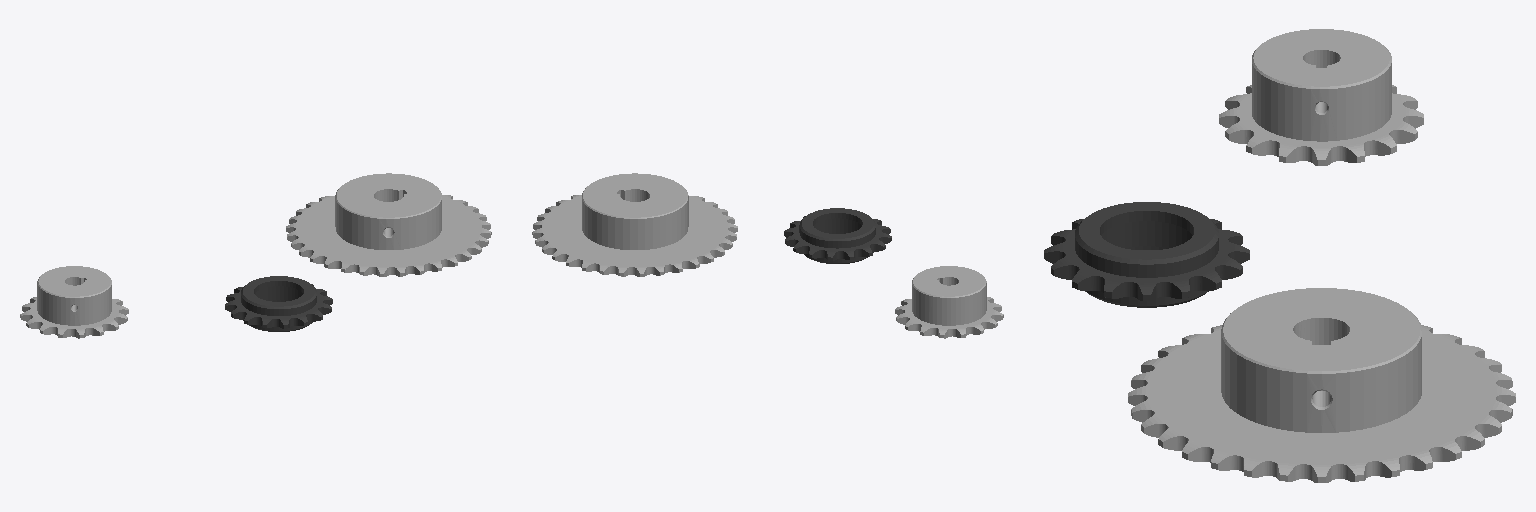
robot.urdf — board:
<?xml version="1.0"?>
<!-- Generated by scripts/debug/gen_bike_chain_board_urdf.py from bike_chain_task_board.sdf; do not edit. -->
<robot name="board">
  <link name="board">
    <visual name="board">
      <origin xyz="0 0 0" rpy="0 0 0"/>
      <geometry><mesh filename="bike_chain_task_board_no_sprockets.obj" scale="0.001 0.001 0.001"/></geometry>
    </visual>
    <collision name="board_collision">
      <origin xyz="0.192 0.192 -0.005" rpy="0 0 0"/>
      <geometry><box size="0.384 0.384 0.01"/></geometry>
    </collision>
  </link>
  <link name="small_sprocket">
    <inertial>
      <origin xyz="0 0 0" rpy="0 0 0"/>
      <mass value="0.3"/>
      <inertia ixx="3.06677e-05" iyy="3.0667375e-05" izz="6.0454911e-05" ixy="5.7518697e-14" ixz="1.6724428e-11" iyz="-1.9003215e-11"/>
    </inertial>
    <visual name="small_sprocket">
      <origin xyz="0 0 0.02" rpy="0 0 0"/>
      <geometry><mesh filename="small_sprocket.obj"/></geometry>
      <material name="small_sprocket"><color rgba="0.7 0.7 0.7 1"/></material>
    </visual>
    <collision name="small_sprocket_rim">
      <origin xyz="0 0 0.02215" rpy="0 0 0"/>
      <geometry><cylinder radius="0.02224" length="0.0043"/></geometry>
    </collision>
    <collision name="small_sprocket_tooth_0">
      <origin xyz="0.02224 0 0.02215" rpy="0 1.57079 0"/>
      <geometry><mesh filename="sprocket_tooth.obj"/></geometry>
    </collision>
    <collision name="small_sprocket_tooth_1">
      <origin xyz="0.020547 0.008511 0.02215" rpy="0 1.57079 0.392699"/>
      <geometry><mesh filename="sprocket_tooth.obj"/></geometry>
    </collision>
    <collision name="small_sprocket_tooth_2">
      <origin xyz="0.015726 0.015726 0.02215" rpy="0 1.57079 0.785398"/>
      <geometry><mesh filename="sprocket_tooth.obj"/></geometry>
    </collision>
    <collision name="small_sprocket_tooth_3">
      <origin xyz="0.008511 0.020547 0.02215" rpy="0 1.57079 1.178097"/>
      <geometry><mesh filename="sprocket_tooth.obj"/></geometry>
    </collision>
    <collision name="small_sprocket_tooth_4">
      <origin xyz="0 0.02224 0.02215" rpy="0 1.57079 1.570796"/>
      <geometry><mesh filename="sprocket_tooth.obj"/></geometry>
    </collision>
    <collision name="small_sprocket_tooth_5">
      <origin xyz="-0.008511 0.020547 0.02215" rpy="0 1.57079 1.963495"/>
      <geometry><mesh filename="sprocket_tooth.obj"/></geometry>
    </collision>
    <collision name="small_sprocket_tooth_6">
      <origin xyz="-0.015726 0.015726 0.02215" rpy="0 1.57079 2.356194"/>
      <geometry><mesh filename="sprocket_tooth.obj"/></geometry>
    </collision>
    <collision name="small_sprocket_tooth_7">
      <origin xyz="-0.020547 0.008511 0.02215" rpy="0 1.57079 2.748894"/>
      <geometry><mesh filename="sprocket_tooth.obj"/></geometry>
    </collision>
    <collision name="small_sprocket_tooth_8">
      <origin xyz="-0.02224 0 0.02215" rpy="0 1.57079 3.141593"/>
      <geometry><mesh filename="sprocket_tooth.obj"/></geometry>
    </collision>
    <collision name="small_sprocket_tooth_9">
      <origin xyz="-0.020547 -0.008511 0.02215" rpy="0 1.57079 3.534292"/>
      <geometry><mesh filename="sprocket_tooth.obj"/></geometry>
    </collision>
    <collision name="small_sprocket_tooth_10">
      <origin xyz="-0.015726 -0.015726 0.02215" rpy="0 1.57079 3.926991"/>
      <geometry><mesh filename="sprocket_tooth.obj"/></geometry>
    </collision>
    <collision name="small_sprocket_tooth_11">
      <origin xyz="-0.008511 -0.020547 0.02215" rpy="0 1.57079 4.31969"/>
      <geometry><mesh filename="sprocket_tooth.obj"/></geometry>
    </collision>
    <collision name="small_sprocket_tooth_12">
      <origin xyz="0 -0.02224 0.02215" rpy="0 1.57079 4.712389"/>
      <geometry><mesh filename="sprocket_tooth.obj"/></geometry>
    </collision>
    <collision name="small_sprocket_tooth_13">
      <origin xyz="0.008511 -0.020547 0.02215" rpy="0 1.57079 5.105088"/>
      <geometry><mesh filename="sprocket_tooth.obj"/></geometry>
    </collision>
    <collision name="small_sprocket_tooth_14">
      <origin xyz="0.015726 -0.015726 0.02215" rpy="0 1.57079 5.497787"/>
      <geometry><mesh filename="sprocket_tooth.obj"/></geometry>
    </collision>
    <collision name="small_sprocket_tooth_15">
      <origin xyz="0.020547 -0.008511 0.02215" rpy="0 1.57079 5.890486"/>
      <geometry><mesh filename="sprocket_tooth.obj"/></geometry>
    </collision>
    <collision name="small_sprocket_hub">
      <origin xyz="0 0 0.03215" rpy="0 0 0"/>
      <geometry><cylinder radius="0.0185" length="0.0157"/></geometry>
    </collision>
    <collision name="screw_head">
      <origin xyz="0 0 0.043" rpy="0 0 0"/>
      <geometry><cylinder radius="0.005" length="0.006"/></geometry>
    </collision>
  </link>
  <link name="large_sprocket">
    <inertial>
      <origin xyz="0 0 0" rpy="0 0 0"/>
      <mass value="0.5"/>
      <inertia ixx="3.06677e-05" iyy="3.0667375e-05" izz="6.0454911e-05" ixy="5.7518697e-14" ixz="1.6724428e-11" iyz="-1.9003215e-11"/>
    </inertial>
    <visual name="large_sprocket">
      <origin xyz="0 0 0.023" rpy="0 0 0"/>
      <geometry><mesh filename="large_sprocket.obj"/></geometry>
      <material name="large_sprocket"><color rgba="0.7 0.7 0.7 1"/></material>
    </visual>
    <collision name="large_sprocket_rim">
      <origin xyz="0 0 0.02515" rpy="0 0 0"/>
      <geometry><cylinder radius="0.046237" length="0.0043"/></geometry>
    </collision>
    <collision name="large_sprocket_hub">
      <origin xyz="0 0 0.03615" rpy="0 0 0"/>
      <geometry><cylinder radius="0.0265" length="0.0177"/></geometry>
    </collision>
    <collision name="screw_head">
      <origin xyz="0 0 0.048" rpy="0 0 0"/>
      <geometry><cylinder radius="0.005" length="0.006"/></geometry>
    </collision>
    <collision name="large_sprocket_tooth_0">
      <origin xyz="0.046237 0 0.02515" rpy="0 1.57079 0"/>
      <geometry><mesh filename="sprocket_tooth.obj"/></geometry>
    </collision>
    <collision name="large_sprocket_tooth_1">
      <origin xyz="0.045349 0.00902 0.02515" rpy="0 1.57079 0.19635"/>
      <geometry><mesh filename="sprocket_tooth.obj"/></geometry>
    </collision>
    <collision name="large_sprocket_tooth_2">
      <origin xyz="0.042717 0.017694 0.02515" rpy="0 1.57079 0.392699"/>
      <geometry><mesh filename="sprocket_tooth.obj"/></geometry>
    </collision>
    <collision name="large_sprocket_tooth_3">
      <origin xyz="0.038445 0.025688 0.02515" rpy="0 1.57079 0.589049"/>
      <geometry><mesh filename="sprocket_tooth.obj"/></geometry>
    </collision>
    <collision name="large_sprocket_tooth_4">
      <origin xyz="0.032694 0.032694 0.02515" rpy="0 1.57079 0.785398"/>
      <geometry><mesh filename="sprocket_tooth.obj"/></geometry>
    </collision>
    <collision name="large_sprocket_tooth_5">
      <origin xyz="0.025688 0.038445 0.02515" rpy="0 1.57079 0.981748"/>
      <geometry><mesh filename="sprocket_tooth.obj"/></geometry>
    </collision>
    <collision name="large_sprocket_tooth_6">
      <origin xyz="0.017694 0.042717 0.02515" rpy="0 1.57079 1.178097"/>
      <geometry><mesh filename="sprocket_tooth.obj"/></geometry>
    </collision>
    <collision name="large_sprocket_tooth_7">
      <origin xyz="0.00902 0.045349 0.02515" rpy="0 1.57079 1.374447"/>
      <geometry><mesh filename="sprocket_tooth.obj"/></geometry>
    </collision>
    <collision name="large_sprocket_tooth_8">
      <origin xyz="0 0.046237 0.02515" rpy="0 1.57079 1.570796"/>
      <geometry><mesh filename="sprocket_tooth.obj"/></geometry>
    </collision>
    <collision name="large_sprocket_tooth_9">
      <origin xyz="-0.00902 0.045349 0.02515" rpy="0 1.57079 1.767146"/>
      <geometry><mesh filename="sprocket_tooth.obj"/></geometry>
    </collision>
    <collision name="large_sprocket_tooth_10">
      <origin xyz="-0.017694 0.042717 0.02515" rpy="0 1.57079 1.963495"/>
      <geometry><mesh filename="sprocket_tooth.obj"/></geometry>
    </collision>
    <collision name="large_sprocket_tooth_11">
      <origin xyz="-0.025688 0.038445 0.02515" rpy="0 1.57079 2.159845"/>
      <geometry><mesh filename="sprocket_tooth.obj"/></geometry>
    </collision>
    <collision name="large_sprocket_tooth_12">
      <origin xyz="-0.032694 0.032694 0.02515" rpy="0 1.57079 2.356194"/>
      <geometry><mesh filename="sprocket_tooth.obj"/></geometry>
    </collision>
    <collision name="large_sprocket_tooth_13">
      <origin xyz="-0.038445 0.025688 0.02515" rpy="0 1.57079 2.552544"/>
      <geometry><mesh filename="sprocket_tooth.obj"/></geometry>
    </collision>
    <collision name="large_sprocket_tooth_14">
      <origin xyz="-0.042717 0.017694 0.02515" rpy="0 1.57079 2.748894"/>
      <geometry><mesh filename="sprocket_tooth.obj"/></geometry>
    </collision>
    <collision name="large_sprocket_tooth_15">
      <origin xyz="-0.045349 0.00902 0.02515" rpy="0 1.57079 2.945243"/>
      <geometry><mesh filename="sprocket_tooth.obj"/></geometry>
    </collision>
    <collision name="large_sprocket_tooth_16">
      <origin xyz="-0.046237 0 0.02515" rpy="0 1.57079 3.141593"/>
      <geometry><mesh filename="sprocket_tooth.obj"/></geometry>
    </collision>
    <collision name="large_sprocket_tooth_17">
      <origin xyz="-0.045349 -0.00902 0.02515" rpy="0 1.57079 3.337942"/>
      <geometry><mesh filename="sprocket_tooth.obj"/></geometry>
    </collision>
    <collision name="large_sprocket_tooth_18">
      <origin xyz="-0.042717 -0.017694 0.02515" rpy="0 1.57079 3.534292"/>
      <geometry><mesh filename="sprocket_tooth.obj"/></geometry>
    </collision>
    <collision name="large_sprocket_tooth_19">
      <origin xyz="-0.038445 -0.025688 0.02515" rpy="0 1.57079 3.730641"/>
      <geometry><mesh filename="sprocket_tooth.obj"/></geometry>
    </collision>
    <collision name="large_sprocket_tooth_20">
      <origin xyz="-0.032694 -0.032694 0.02515" rpy="0 1.57079 3.926991"/>
      <geometry><mesh filename="sprocket_tooth.obj"/></geometry>
    </collision>
    <collision name="large_sprocket_tooth_21">
      <origin xyz="-0.025688 -0.038445 0.02515" rpy="0 1.57079 4.12334"/>
      <geometry><mesh filename="sprocket_tooth.obj"/></geometry>
    </collision>
    <collision name="large_sprocket_tooth_22">
      <origin xyz="-0.017694 -0.042717 0.02515" rpy="0 1.57079 4.31969"/>
      <geometry><mesh filename="sprocket_tooth.obj"/></geometry>
    </collision>
    <collision name="large_sprocket_tooth_23">
      <origin xyz="-0.00902 -0.045349 0.02515" rpy="0 1.57079 4.516039"/>
      <geometry><mesh filename="sprocket_tooth.obj"/></geometry>
    </collision>
    <collision name="large_sprocket_tooth_24">
      <origin xyz="0 -0.046237 0.02515" rpy="0 1.57079 4.712389"/>
      <geometry><mesh filename="sprocket_tooth.obj"/></geometry>
    </collision>
    <collision name="large_sprocket_tooth_25">
      <origin xyz="0.00902 -0.045349 0.02515" rpy="0 1.57079 4.908739"/>
      <geometry><mesh filename="sprocket_tooth.obj"/></geometry>
    </collision>
    <collision name="large_sprocket_tooth_26">
      <origin xyz="0.017694 -0.042717 0.02515" rpy="0 1.57079 5.105088"/>
      <geometry><mesh filename="sprocket_tooth.obj"/></geometry>
    </collision>
    <collision name="large_sprocket_tooth_27">
      <origin xyz="0.025688 -0.038445 0.02515" rpy="0 1.57079 5.301438"/>
      <geometry><mesh filename="sprocket_tooth.obj"/></geometry>
    </collision>
    <collision name="large_sprocket_tooth_28">
      <origin xyz="0.032694 -0.032694 0.02515" rpy="0 1.57079 5.497787"/>
      <geometry><mesh filename="sprocket_tooth.obj"/></geometry>
    </collision>
    <collision name="large_sprocket_tooth_29">
      <origin xyz="0.038445 -0.025688 0.02515" rpy="0 1.57079 5.694137"/>
      <geometry><mesh filename="sprocket_tooth.obj"/></geometry>
    </collision>
    <collision name="large_sprocket_tooth_30">
      <origin xyz="0.042717 -0.017694 0.02515" rpy="0 1.57079 5.890486"/>
      <geometry><mesh filename="sprocket_tooth.obj"/></geometry>
    </collision>
    <collision name="large_sprocket_tooth_31">
      <origin xyz="0.045349 -0.00902 0.02515" rpy="0 1.57079 6.086836"/>
      <geometry><mesh filename="sprocket_tooth.obj"/></geometry>
    </collision>
  </link>
  <link name="tensioner_sprocket">
    <inertial>
      <origin xyz="0 0 0" rpy="0 0 0"/>
      <mass value="0.3"/>
      <inertia ixx="3.06677e-05" iyy="3.0667375e-05" izz="6.0454911e-05" ixy="5.7518697e-14" ixz="1.6724428e-11" iyz="-1.9003215e-11"/>
    </inertial>
    <visual name="tensioner_sprocket">
      <origin xyz="0 0 0.018" rpy="0 0 0"/>
      <geometry><mesh filename="tensioner_sprocket.obj"/></geometry>
      <material name="tensioner_sprocket"><color rgba="0.3 0.3 0.3 1"/></material>
    </visual>
    <collision name="tensioner_sprocket_bottom_hub">
      <origin xyz="0 0 0.020425" rpy="0 0 0"/>
      <geometry><cylinder radius="0.019" length="0.00485"/></geometry>
    </collision>
    <collision name="tensioner_sprocket_rim">
      <origin xyz="0 0 0.025" rpy="0 0 0"/>
      <geometry><cylinder radius="0.02224" length="0.0043"/></geometry>
    </collision>
    <collision name="tensioner_sprocket_top_hub">
      <origin xyz="0 0 0.029575" rpy="0 0 0"/>
      <geometry><cylinder radius="0.019" length="0.00485"/></geometry>
    </collision>
    <collision name="tensioner_sprocket_tooth_0">
      <origin xyz="0.02224 0 0.025" rpy="0 1.57079 0"/>
      <geometry><mesh filename="sprocket_tooth.obj"/></geometry>
    </collision>
    <collision name="tensioner_sprocket_tooth_1">
      <origin xyz="0.020547 0.008511 0.025" rpy="0 1.57079 0.392699"/>
      <geometry><mesh filename="sprocket_tooth.obj"/></geometry>
    </collision>
    <collision name="tensioner_sprocket_tooth_2">
      <origin xyz="0.015726 0.015726 0.025" rpy="0 1.57079 0.785398"/>
      <geometry><mesh filename="sprocket_tooth.obj"/></geometry>
    </collision>
    <collision name="tensioner_sprocket_tooth_3">
      <origin xyz="0.008511 0.020547 0.025" rpy="0 1.57079 1.178097"/>
      <geometry><mesh filename="sprocket_tooth.obj"/></geometry>
    </collision>
    <collision name="tensioner_sprocket_tooth_4">
      <origin xyz="0 0.02224 0.025" rpy="0 1.57079 1.570796"/>
      <geometry><mesh filename="sprocket_tooth.obj"/></geometry>
    </collision>
    <collision name="tensioner_sprocket_tooth_5">
      <origin xyz="-0.008511 0.020547 0.025" rpy="0 1.57079 1.963495"/>
      <geometry><mesh filename="sprocket_tooth.obj"/></geometry>
    </collision>
    <collision name="tensioner_sprocket_tooth_6">
      <origin xyz="-0.015726 0.015726 0.025" rpy="0 1.57079 2.356194"/>
      <geometry><mesh filename="sprocket_tooth.obj"/></geometry>
    </collision>
    <collision name="tensioner_sprocket_tooth_7">
      <origin xyz="-0.020547 0.008511 0.025" rpy="0 1.57079 2.748894"/>
      <geometry><mesh filename="sprocket_tooth.obj"/></geometry>
    </collision>
    <collision name="tensioner_sprocket_tooth_8">
      <origin xyz="-0.02224 0 0.025" rpy="0 1.57079 3.141593"/>
      <geometry><mesh filename="sprocket_tooth.obj"/></geometry>
    </collision>
    <collision name="tensioner_sprocket_tooth_9">
      <origin xyz="-0.020547 -0.008511 0.025" rpy="0 1.57079 3.534292"/>
      <geometry><mesh filename="sprocket_tooth.obj"/></geometry>
    </collision>
    <collision name="tensioner_sprocket_tooth_10">
      <origin xyz="-0.015726 -0.015726 0.025" rpy="0 1.57079 3.926991"/>
      <geometry><mesh filename="sprocket_tooth.obj"/></geometry>
    </collision>
    <collision name="tensioner_sprocket_tooth_11">
      <origin xyz="-0.008511 -0.020547 0.025" rpy="0 1.57079 4.31969"/>
      <geometry><mesh filename="sprocket_tooth.obj"/></geometry>
    </collision>
    <collision name="tensioner_sprocket_tooth_12">
      <origin xyz="0 -0.02224 0.025" rpy="0 1.57079 4.712389"/>
      <geometry><mesh filename="sprocket_tooth.obj"/></geometry>
    </collision>
    <collision name="tensioner_sprocket_tooth_13">
      <origin xyz="0.008511 -0.020547 0.025" rpy="0 1.57079 5.105088"/>
      <geometry><mesh filename="sprocket_tooth.obj"/></geometry>
    </collision>
    <collision name="tensioner_sprocket_tooth_14">
      <origin xyz="0.015726 -0.015726 0.025" rpy="0 1.57079 5.497787"/>
      <geometry><mesh filename="sprocket_tooth.obj"/></geometry>
    </collision>
    <collision name="tensioner_sprocket_tooth_15">
      <origin xyz="0.020547 -0.008511 0.025" rpy="0 1.57079 5.890486"/>
      <geometry><mesh filename="sprocket_tooth.obj"/></geometry>
    </collision>
    <collision name="hex_nut">
      <origin xyz="0.0003 0 0.034455" rpy="0 0 0"/>
      <geometry><cylinder radius="0.0075" length="0.0051"/></geometry>
    </collision>
    <collision name="screw_head">
      <origin xyz="0.0003 0 0.04065" rpy="0 0 0"/>
      <geometry><cylinder radius="0.004" length="0.0071"/></geometry>
    </collision>
  </link>
  <joint name="small_sprocket_joint" type="continuous">
    <parent link="board"/>
    <child link="small_sprocket"/>
    <origin xyz="0.054 0.073 0" rpy="0 0 0"/>
    <axis xyz="0 0 1"/>
    <dynamics damping="0.01"/>
    <limit effort="0" velocity="100"/>
  </joint>
  <joint name="large_sprocket_joint" type="continuous">
    <parent link="board"/>
    <child link="large_sprocket"/>
    <origin xyz="0.234 0.073 0" rpy="0 0 0"/>
    <axis xyz="0 0 1"/>
    <dynamics damping="0.01"/>
    <limit effort="0" velocity="100"/>
  </joint>
  <joint name="tensioner_sprocket_joint" type="continuous">
    <parent link="board"/>
    <child link="tensioner_sprocket"/>
    <origin xyz="0.1445 0.027 0" rpy="0 0 0"/>
    <axis xyz="0 0 1"/>
    <dynamics damping="0.01"/>
    <limit effort="0" velocity="100"/>
  </joint>
</robot>

--- Facts derived from the render (not from the file) ---
Views: 3 orthographic renders of the robot side by side, from view 1: azimuth 30°, elevation 25°; view 2: azimuth 150°, elevation 25°; view 3: azimuth 270°, elevation 25°.
Robot: board — 4 links, 3 joints (3 continuous); root link board; default pose: every joint at zero.
Links seen in each view (by area): view 1: large_sprocket, small_sprocket, tensioner_sprocket; view 2: large_sprocket, small_sprocket, tensioner_sprocket; view 3: large_sprocket, small_sprocket, tensioner_sprocket.
Link boxes in pixels (box(x1,y1,x2,y2)): large_sprocket: box(286, 173, 491, 276); small_sprocket: box(20, 266, 128, 338); tensioner_sprocket: box(225, 276, 332, 331); large_sprocket: box(532, 173, 737, 276); small_sprocket: box(895, 266, 1003, 338); tensioner_sprocket: box(784, 208, 891, 263); large_sprocket: box(1128, 288, 1515, 482); small_sprocket: box(1219, 29, 1423, 165); tensioner_sprocket: box(1044, 202, 1249, 307).
Bounding box of the posed robot: 0.258 × 0.124 × 0.027 m (x, y, z).
Meshes: 4 distinct files referenced, 3 mesh visuals loaded (3 OBJ); not drawn: 1 (reference not matched to a file when rendering).
